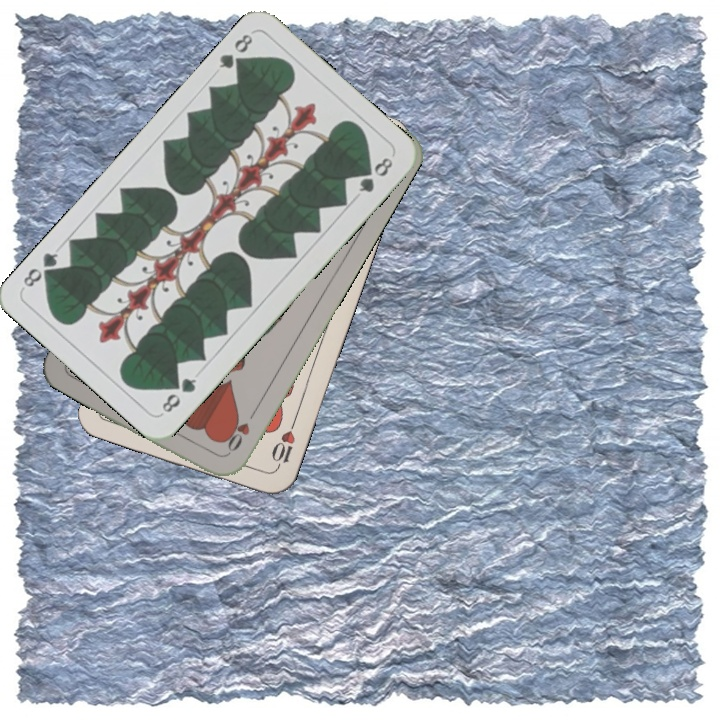G8: (214, 30, 256, 74), (157, 373, 199, 416)
H10: (267, 416, 299, 473)
HO: (219, 405, 259, 459)
